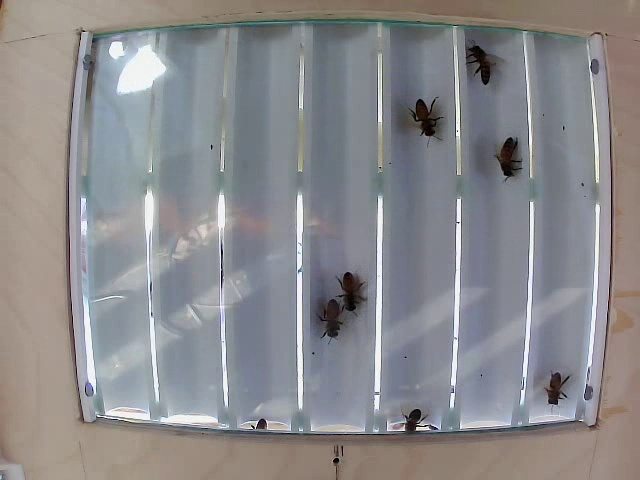bee: (465, 34, 497, 89), (540, 368, 579, 413), (315, 294, 348, 347), (497, 134, 527, 188), (410, 100, 447, 143), (339, 272, 362, 318), (393, 400, 429, 423)
